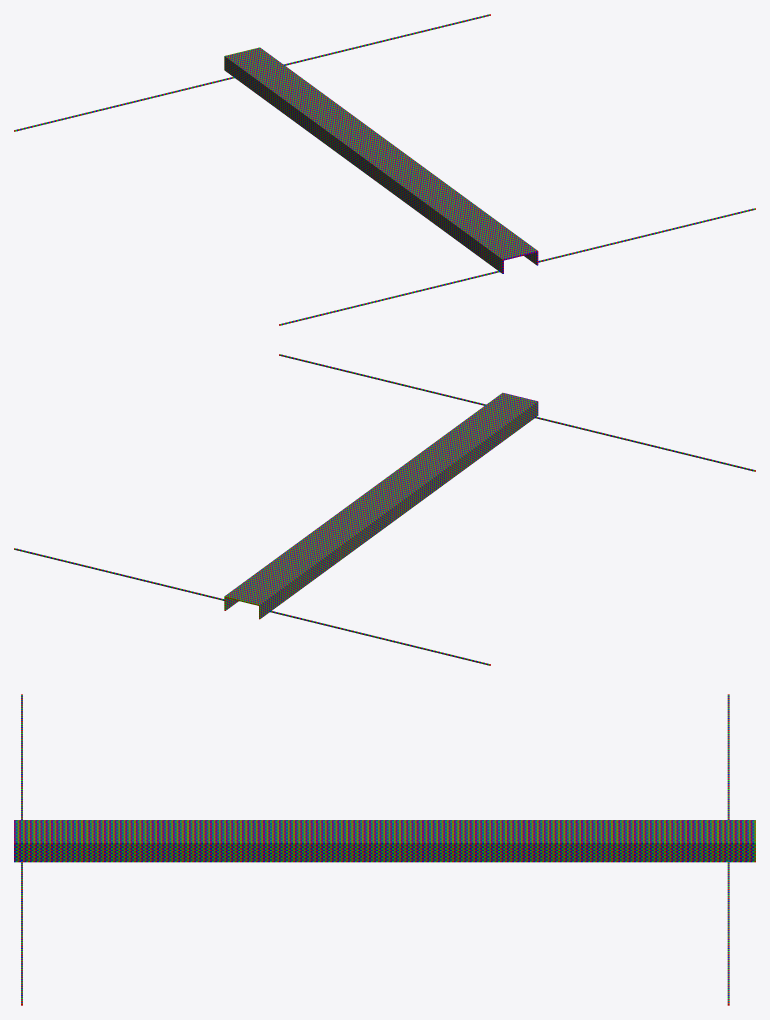
File: cubeCutter_tunnel.fbx
3 renders of one model, top to bottom at view 1: azimuth 30°, elevation 25°; view 2: azimuth 150°, elevation 25°; view 3: azimuth 270°, elevation 25°, orthographic. The views are drawn at different scales.
Visible parts, largest first — view 1: cubeCutter_tunnel; view 2: cubeCutter_tunnel; view 3: cubeCutter_tunnel.
Boxes of the visible parts, box(x1,y1,x2,y2) form: cubeCutter_tunnel: box(14, 14, 755, 325); cubeCutter_tunnel: box(14, 354, 755, 665); cubeCutter_tunnel: box(14, 694, 755, 1005).
Bounding box in the file's own units: 415 × 12 × 420.
